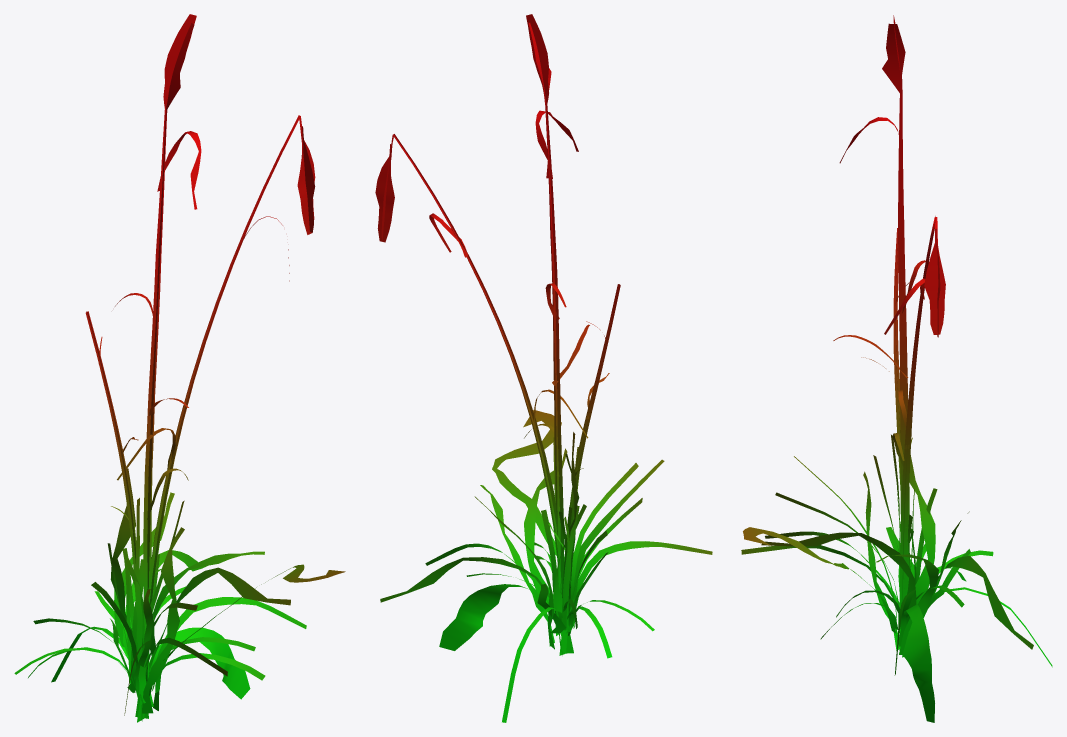
Rendered from tdcrdbur_Var4_LOD0.fbx.
3 views of the same model, side by side, from view 1: azimuth 30°, elevation 25°; view 2: azimuth 150°, elevation 25°; view 3: azimuth 270°, elevation 25° (orthographic). The views are drawn at different scales.
Visible parts, largest first — view 1: _9b00_Var4_LOD0; view 2: _9b00_Var4_LOD0; view 3: _9b00_Var4_LOD0.
Boxes of the visible parts, x1,y1,x2,y2 form: _9b00_Var4_LOD0: [14, 14, 345, 722]; _9b00_Var4_LOD0: [375, 14, 712, 722]; _9b00_Var4_LOD0: [741, 15, 1052, 722].
Size of the model in its own units: 50.18 by 112 by 46.84.
